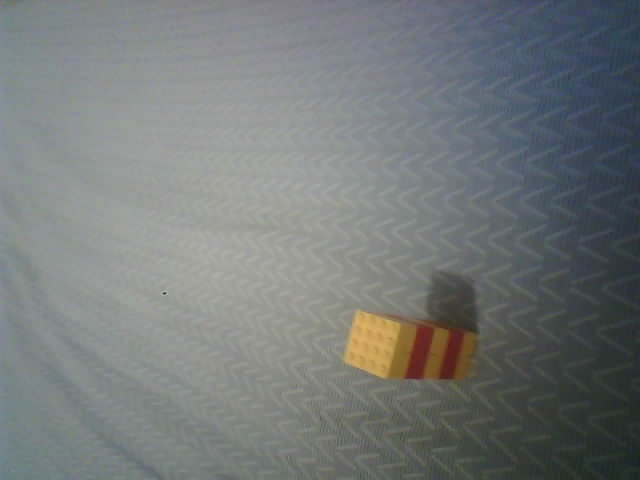lego: (341, 308, 478, 383)
